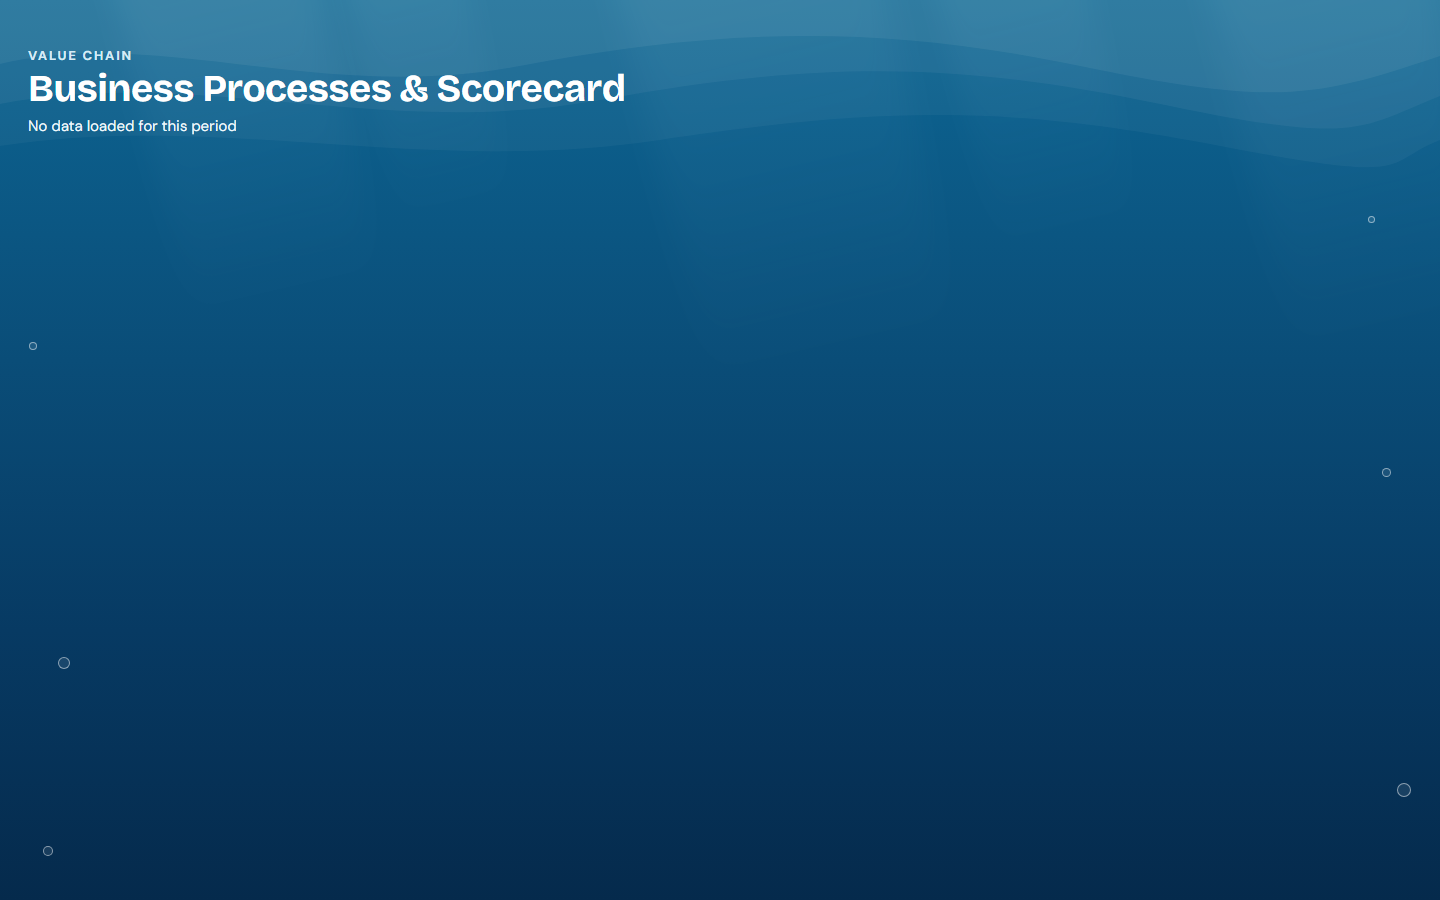

What the dashboard file says about the page in this screenshot:
{"tool":"powerbi","page":{"name":"Page 1","canvas":[1920,1080],"ordinal":0},"visuals":[{"type":"valueChainVisualiserE2BF44FFB3A34F0CB6D06A2CB79AE14B","fields":{"node":["Query1.node"],"nodeOrder":["Query1.nodeOrder"],"group":["Query1.group"],"subGroup":["Query1.subGroup"],"metric":["Query1.metric"],"operator":["Query1.operator"],"valueType":["Query1.valueType"],"symbol":["Query1.symbol"],"year":["Query1.year"],"period":["Query1.period"],"actual":["Sum(Query1.actual)"],"budget":["Sum(Query1.budget)"]},"box":[10.6,72.4,1768.1,1006.3],"z":0},{"type":"slicer","fields":{"Values":["Query1.year"]},"box":[911.2,16.6,247.4,55.8],"z":1},{"type":"slicer","fields":{"Values":["Query1.period"]},"box":[1169.2,16.6,274.6,55.8],"z":2}]}

Visuals, with their boxes on the page's 1920x1080 design canvas (x1, y1, x2, y2). These are canvas units, not pixel positions in the 1440x900 screenshot, which may show the page scaled, cropped or inside an application window:
valueChainVisualiserE2BF44FFB3A34F0CB6D06A2CB79AE14B - Query1.node x Query1.nodeOrder: locate(11, 72, 1779, 1079)
slicer - Query1.year: locate(911, 17, 1159, 72)
slicer - Query1.period: locate(1169, 17, 1444, 72)
